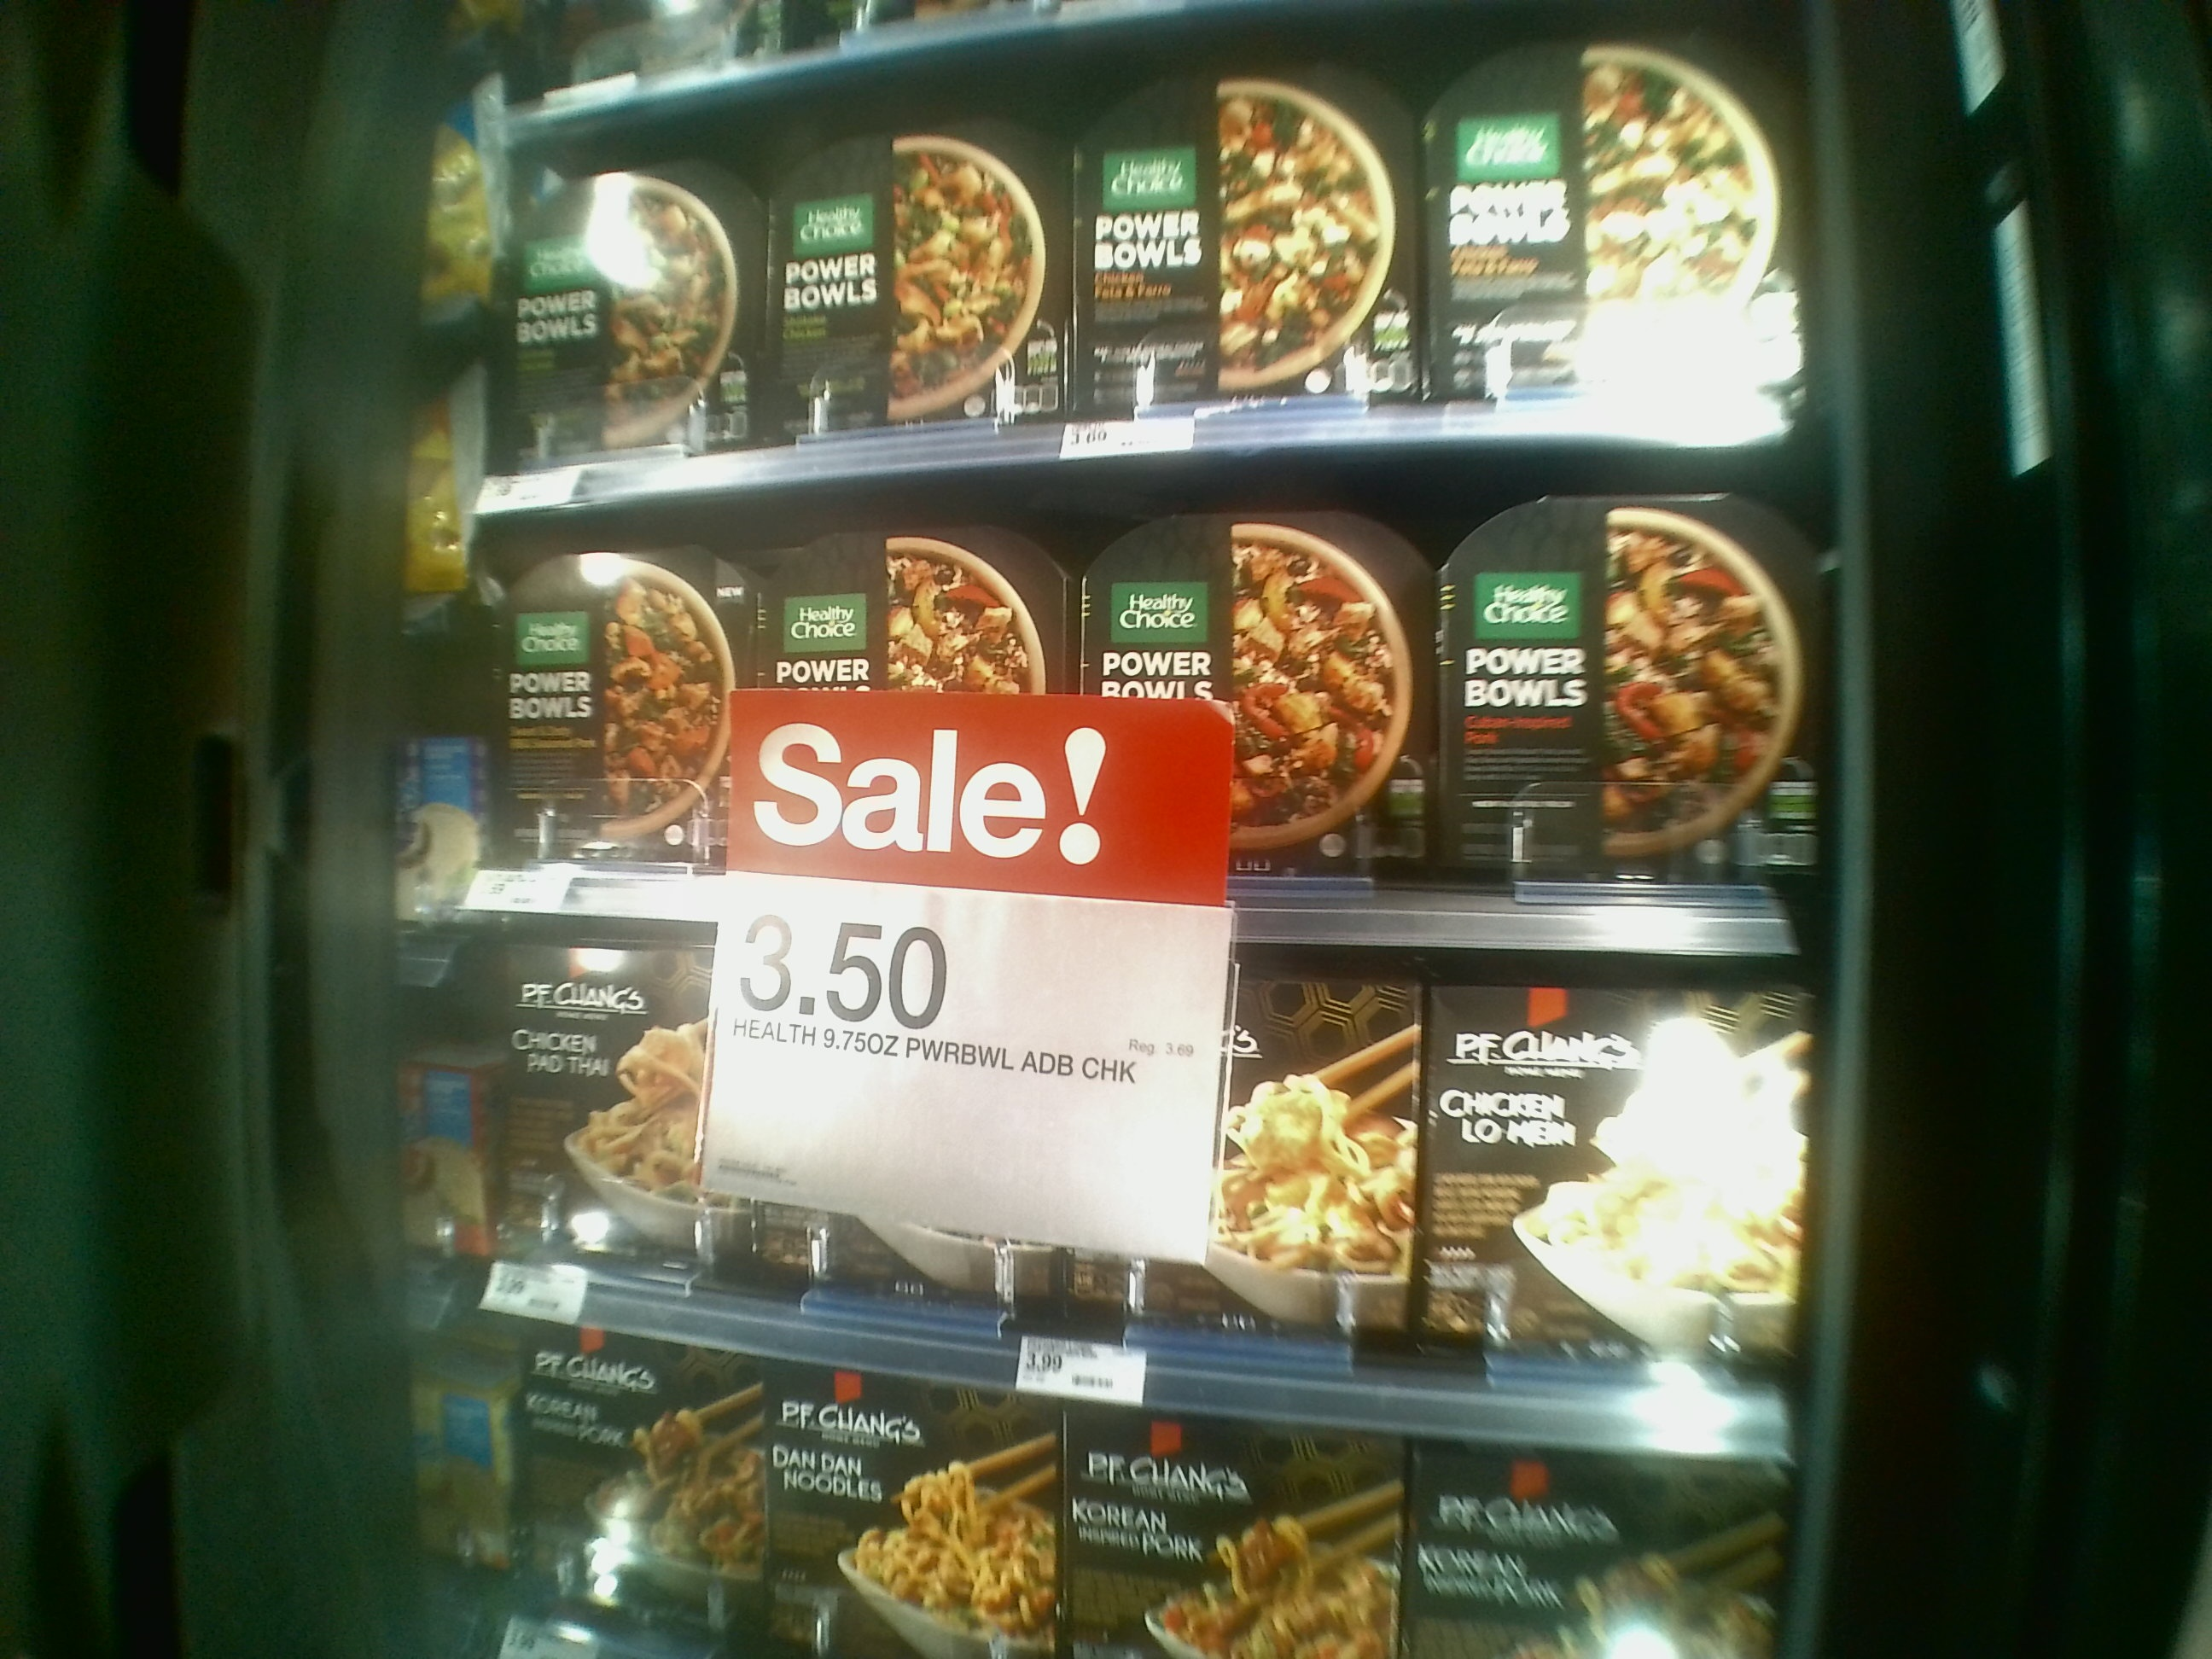shelf: (469, 899, 1796, 1453)
